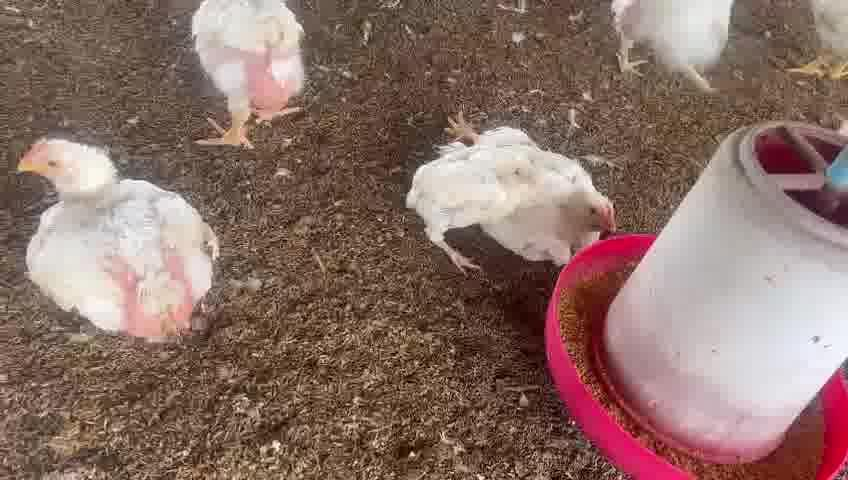AbNormal: (444, 111, 619, 266), (396, 146, 530, 270)
Normal: (21, 134, 215, 341), (182, 0, 328, 159), (584, 0, 746, 104)
